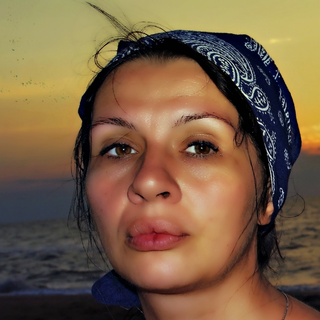eye: (175, 135, 222, 163), (99, 136, 142, 163)
